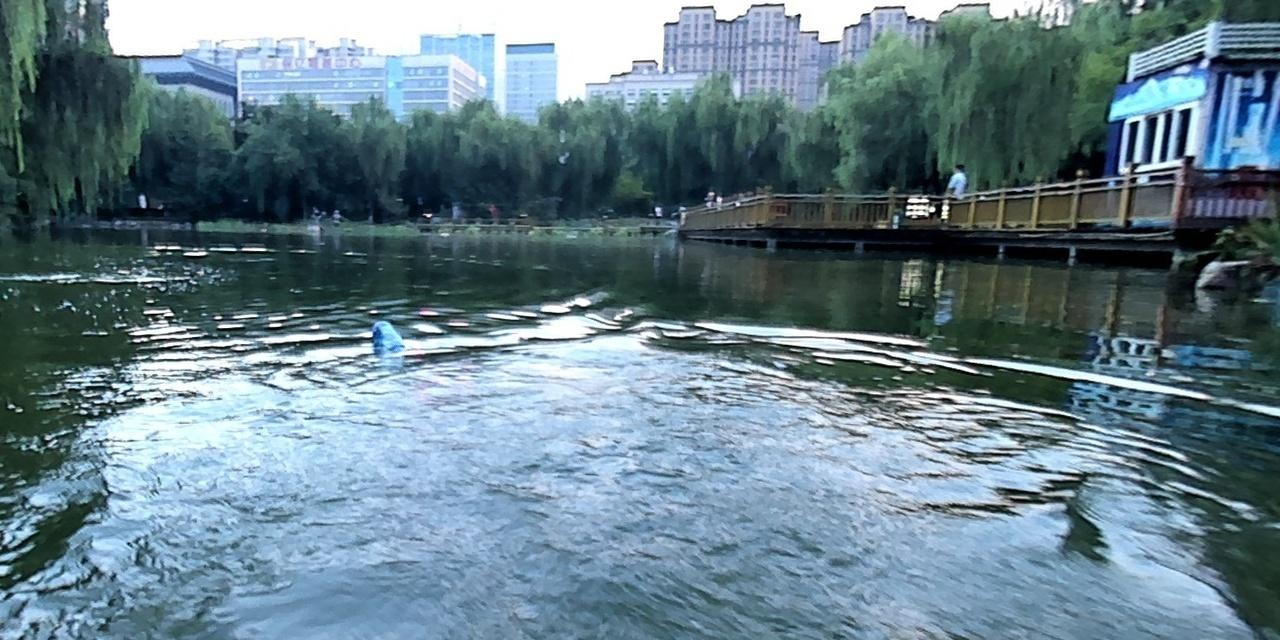bottle: (372, 319, 402, 356)
